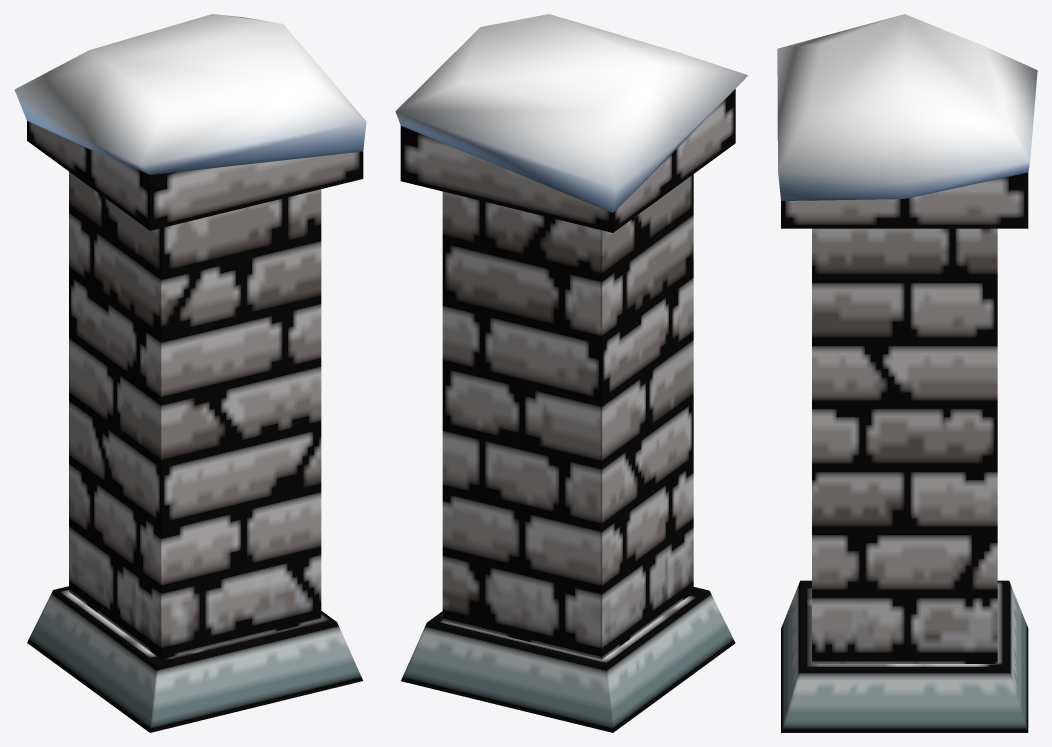
The model's file is deco_winter_wallEndTall_snow.FBX.
The picture shows the model from 3 angles, left to right: view 1: azimuth 30°, elevation 25°; view 2: azimuth 150°, elevation 25°; view 3: azimuth 270°, elevation 25°; orthographic projection.
Parts seen in each view (by area): view 1: deco_winter_wallEndTall_snow; view 2: deco_winter_wallEndTall_snow; view 3: deco_winter_wallEndTall_snow.
Part boxes in pixels (x1=…): deco_winter_wallEndTall_snow: x1=14, y1=14, x2=366, y2=732; deco_winter_wallEndTall_snow: x1=395, y1=14, x2=747, y2=732; deco_winter_wallEndTall_snow: x1=777, y1=14, x2=1037, y2=732.
Bounding box in the file's own units: 1.09 × 2.78 × 1.05.
1 material, 1 textured.
